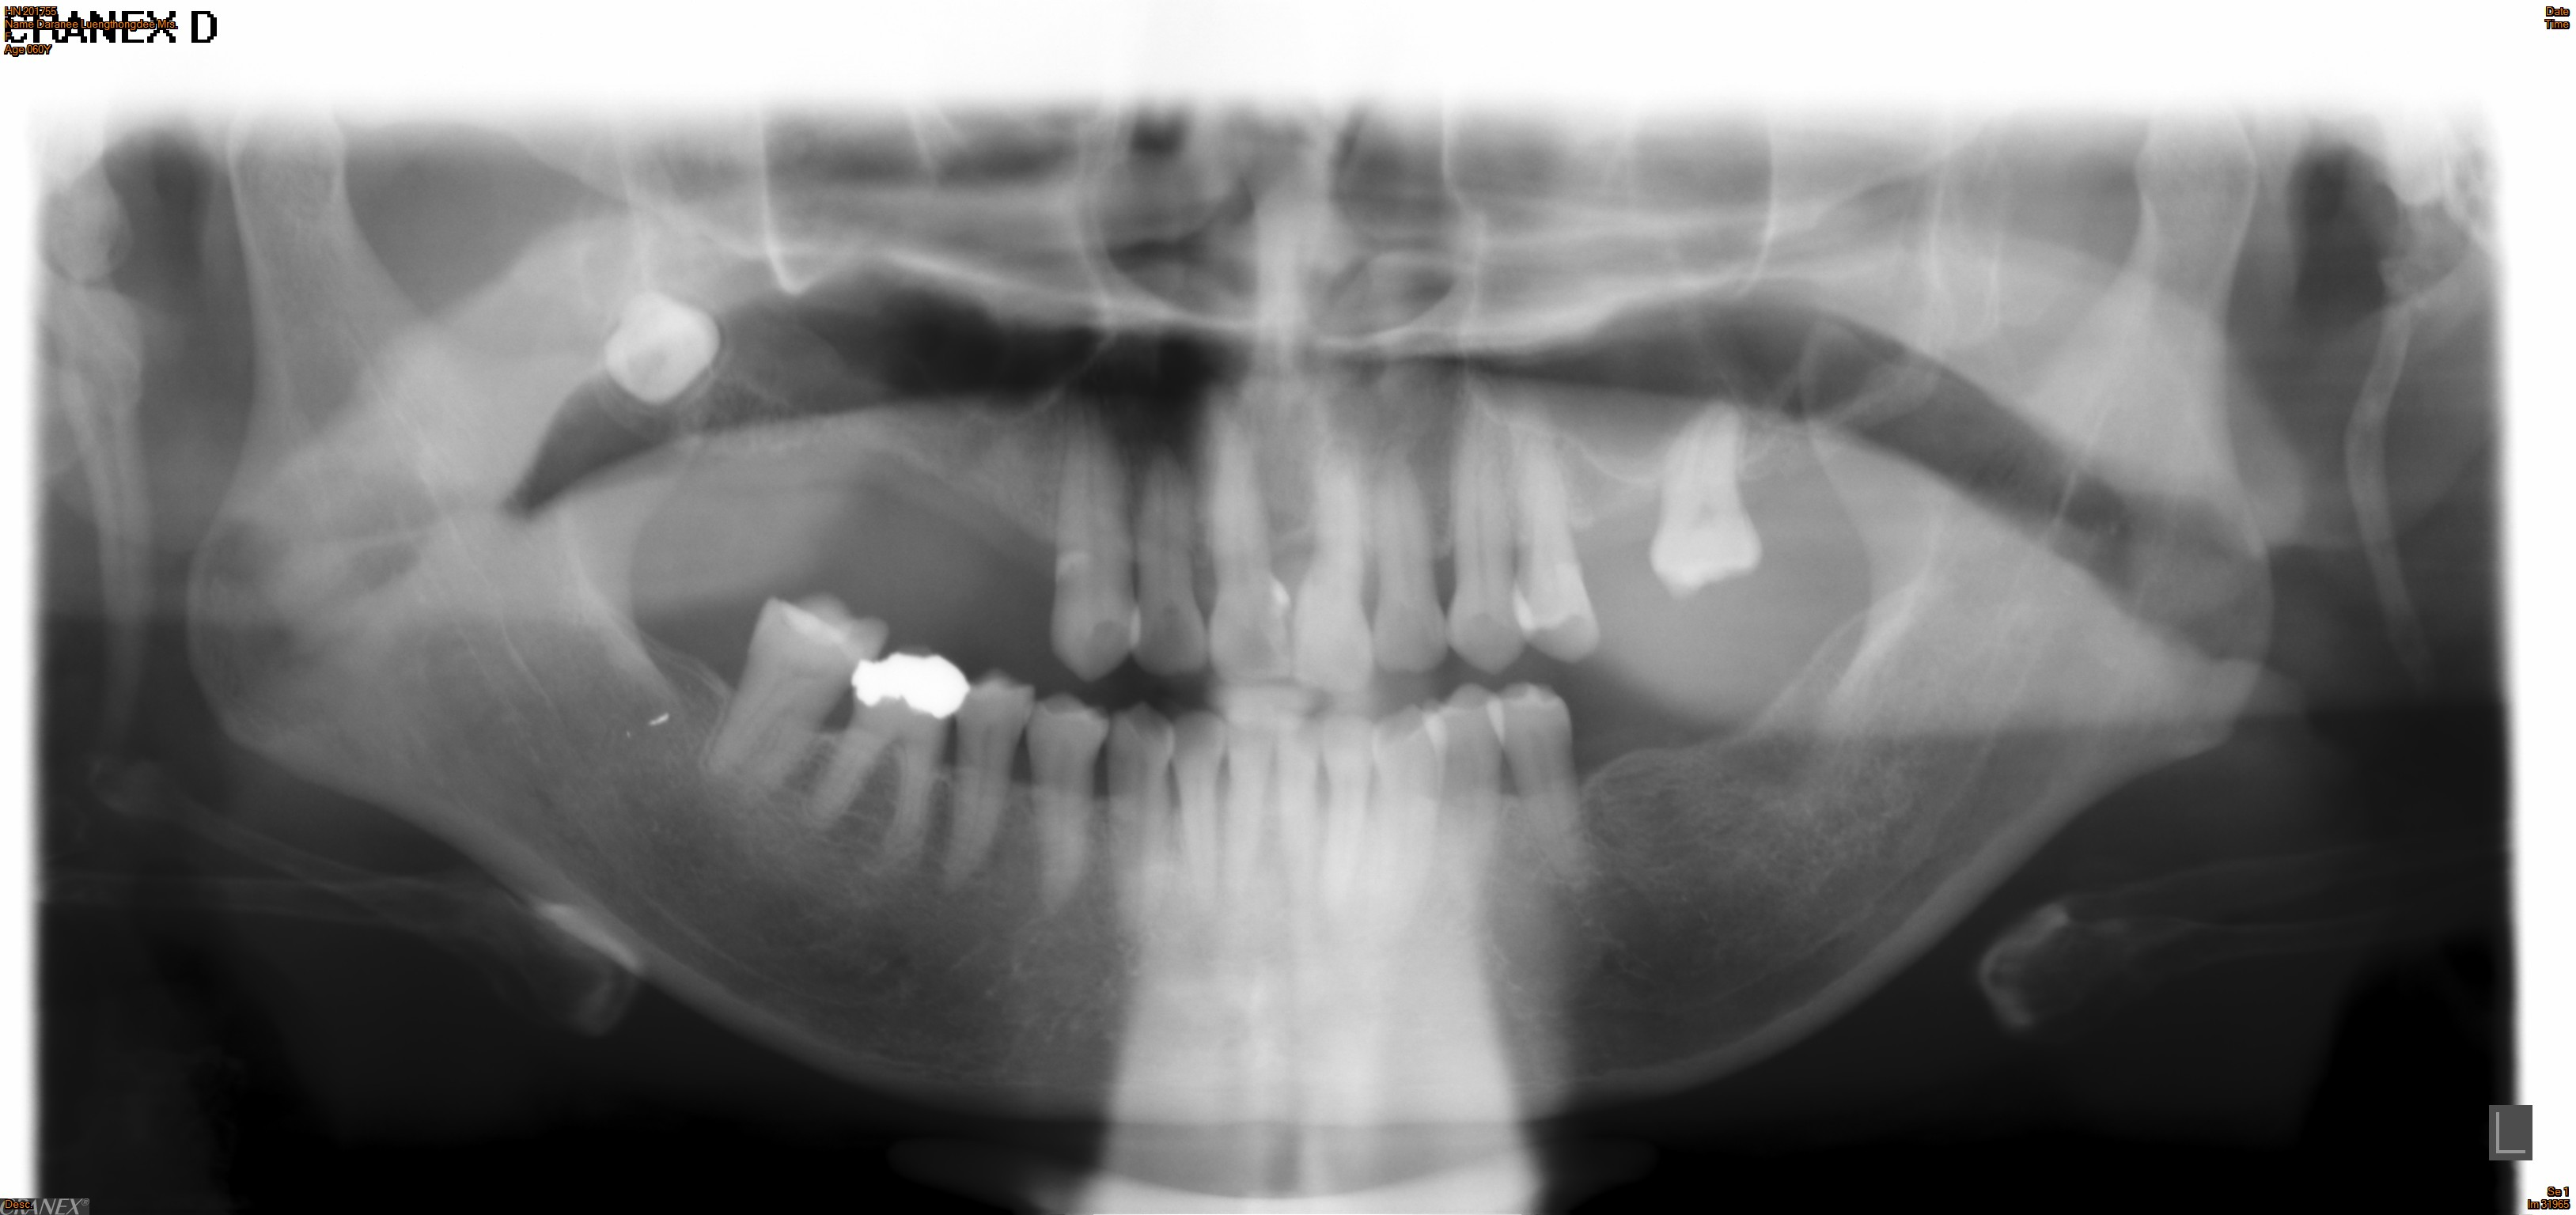periodontitis: (692, 585, 892, 823), (792, 649, 971, 877), (1043, 387, 1150, 686), (1482, 675, 1613, 903), (1503, 406, 1602, 672), (1644, 391, 1766, 606), (1019, 695, 1112, 921), (953, 663, 1040, 885)
